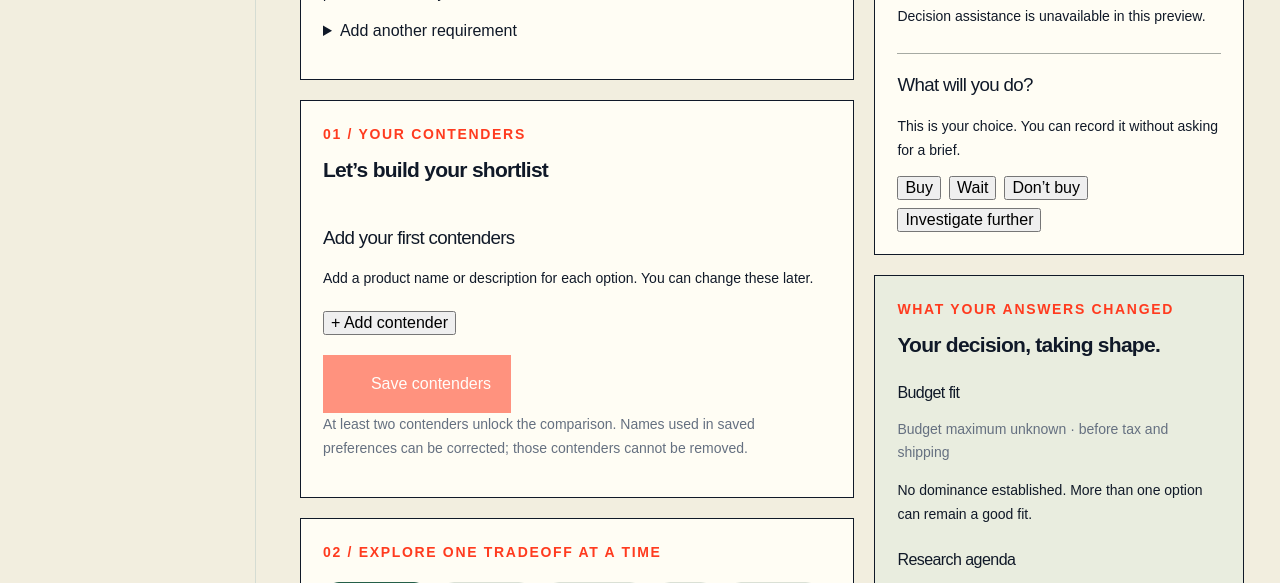
keeps an actionable editor when a prompt contains no supplied contenders
(page scrolled)
Click the button "+ Add contender": coordinates (390, 323) [323,311,456,335]
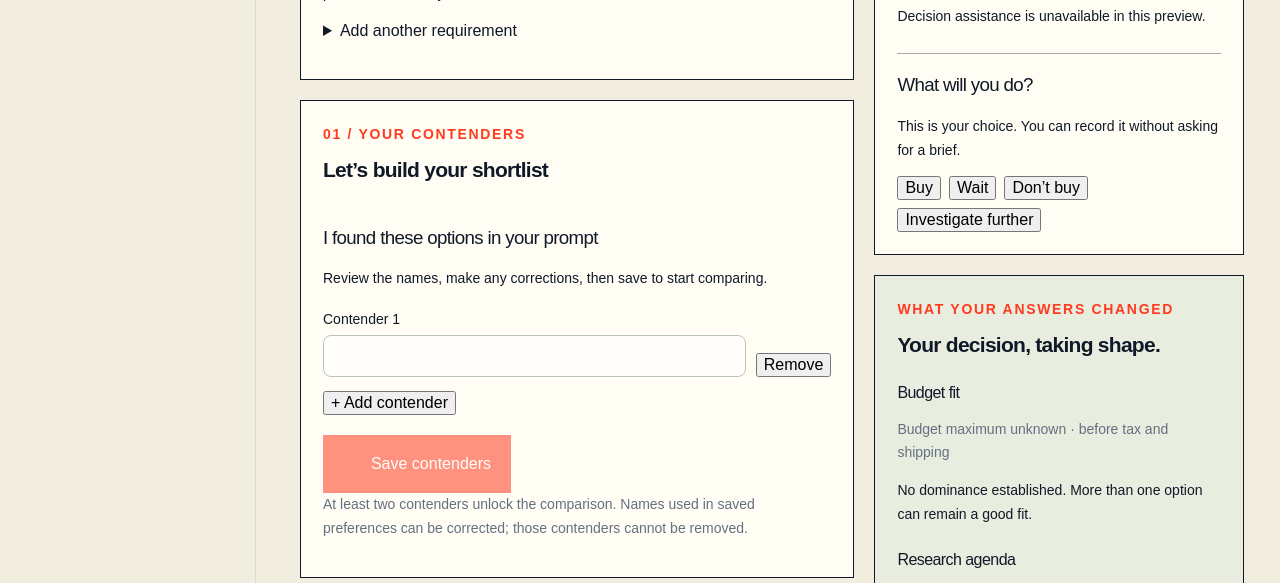
Check: the field labelled "Contender 1" is shown, box [323,335,746,377]
